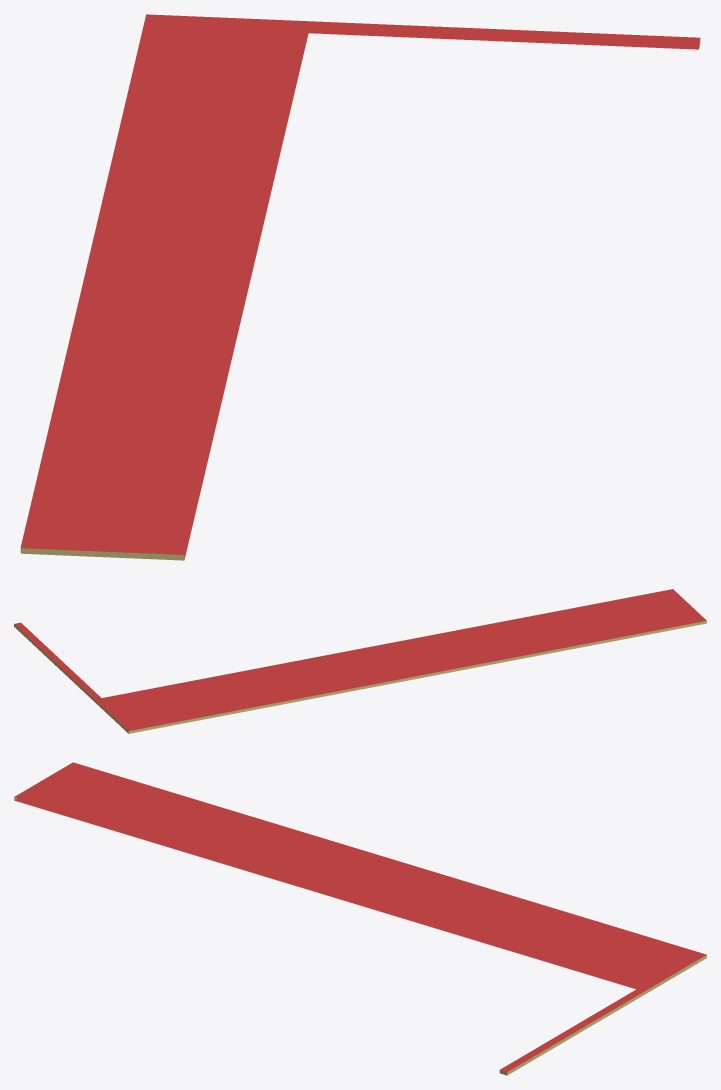
3 views of the same model, one above another, from view 1: azimuth 30°, elevation 25°; view 2: azimuth 150°, elevation 25°; view 3: azimuth 270°, elevation 25° (orthographic). The views are drawn at different scales.
Bounding box in the file's own units: 19.47 × 18.39 × 0.1.
